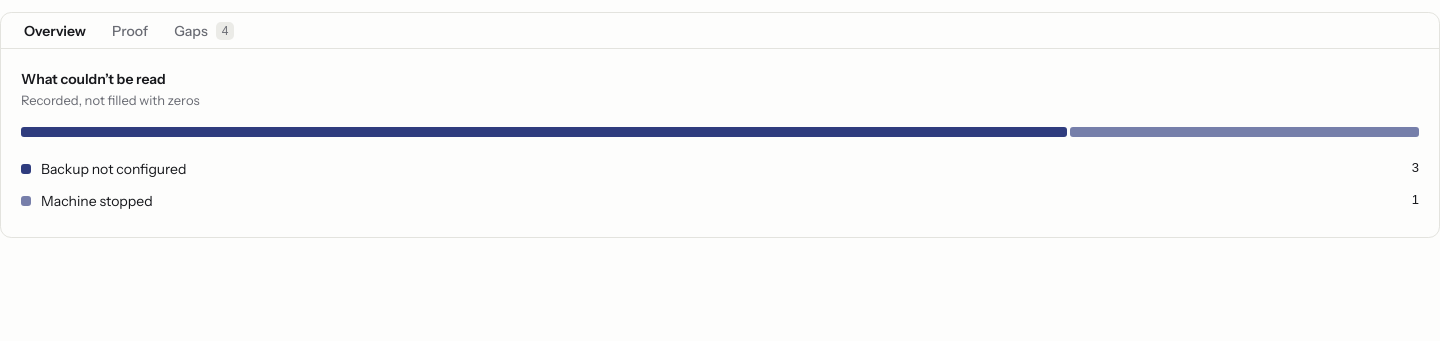
Test case: ReportTabs › a reason opens the Gaps tab with that group expanded
Step 1. Click the button "Machine stopped 1" → (97, 200), box [13,184,1427,216]
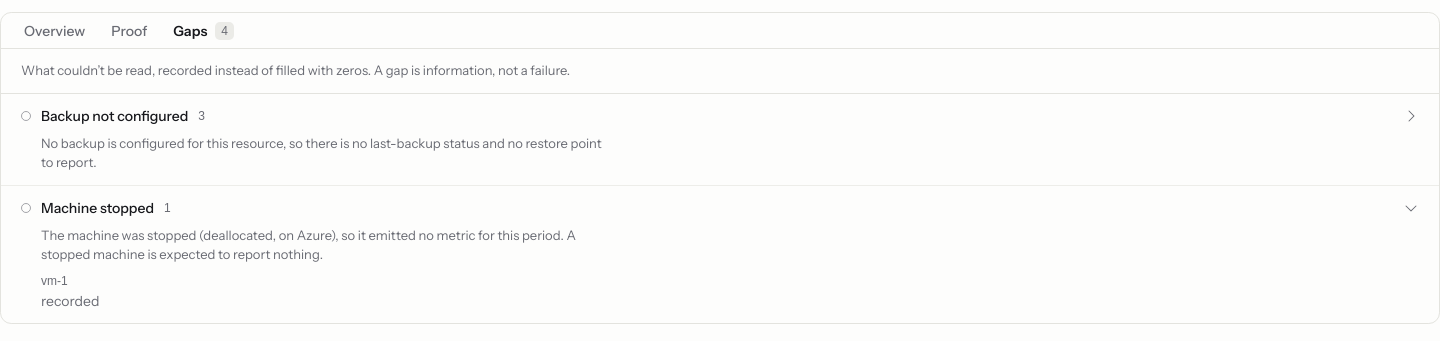
Check: the button with aria-label "Machine stopped, 1 entry" is expanded, box [21,198,1419,218]
Check: the button with aria-label "Backup not configured, 3 entries" is collapsed, box [21,106,1419,126]
Check: the text "vm-1" is shown, box [41,274,68,288]
